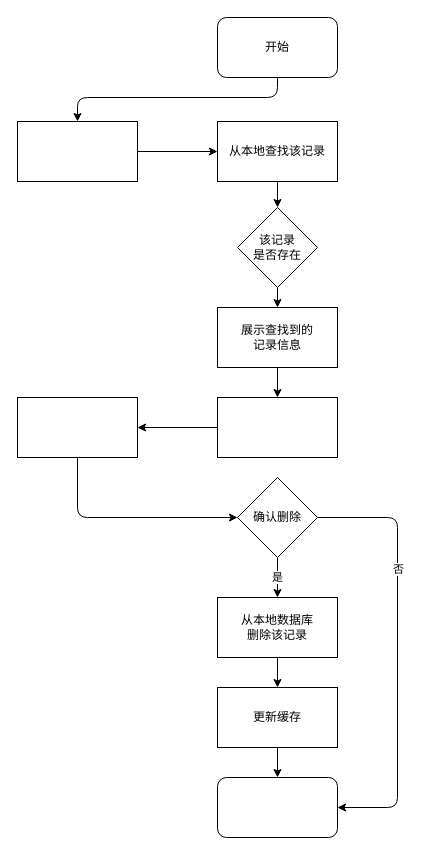
This 423x855 diagram has some shape labels left out. The centre of each missing label's shape, as x and y in pixels:
"弹出确认删除选项框" belongs at pixel 277 427.
"用户进行选择" belongs at pixel 77 427.
"结束" belongs at pixel 277 807.
"输入记录ID" belongs at pixel 77 151.
